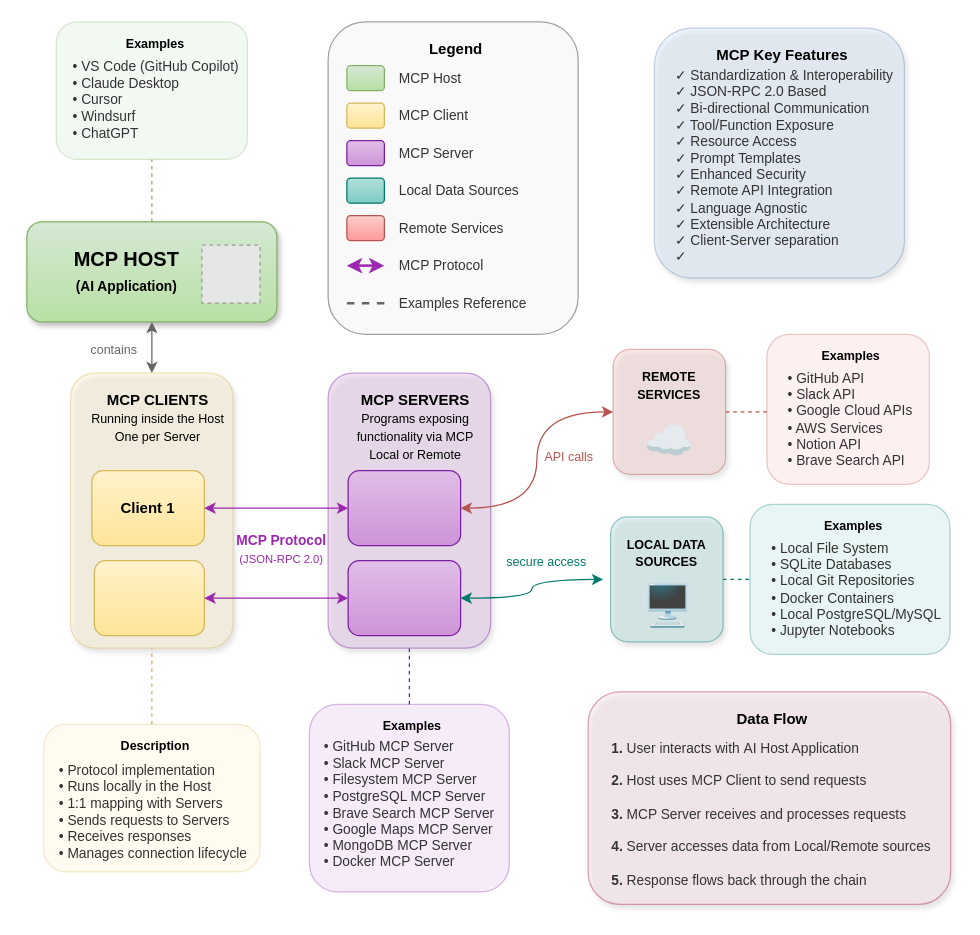
Some shapes in this 980 by 935 pixel diagram are drawn without their labels. Grey dashed boxes stand in for pictures. Here are the shapes that lost their labels. From the top down, the centre of each, then its label:
At point (404, 507): "Server 1".
At point (148, 597): "Client 2".
At point (404, 597): "Server 2".
